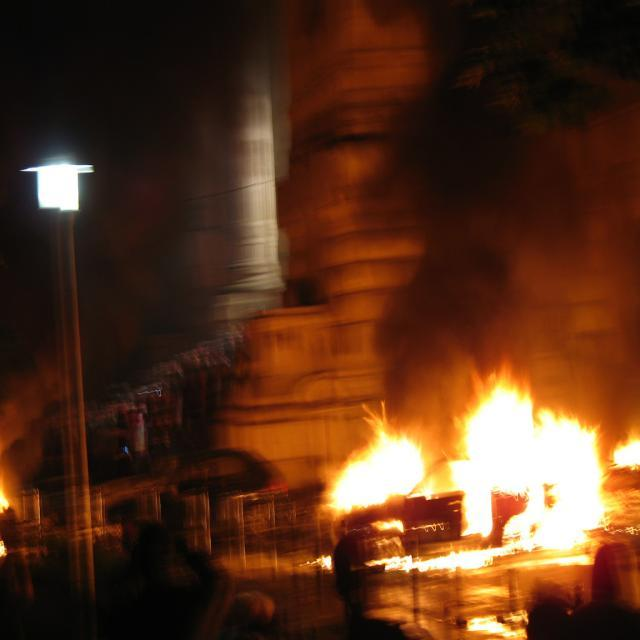Fire: (469, 430, 590, 490), (350, 455, 412, 502)
